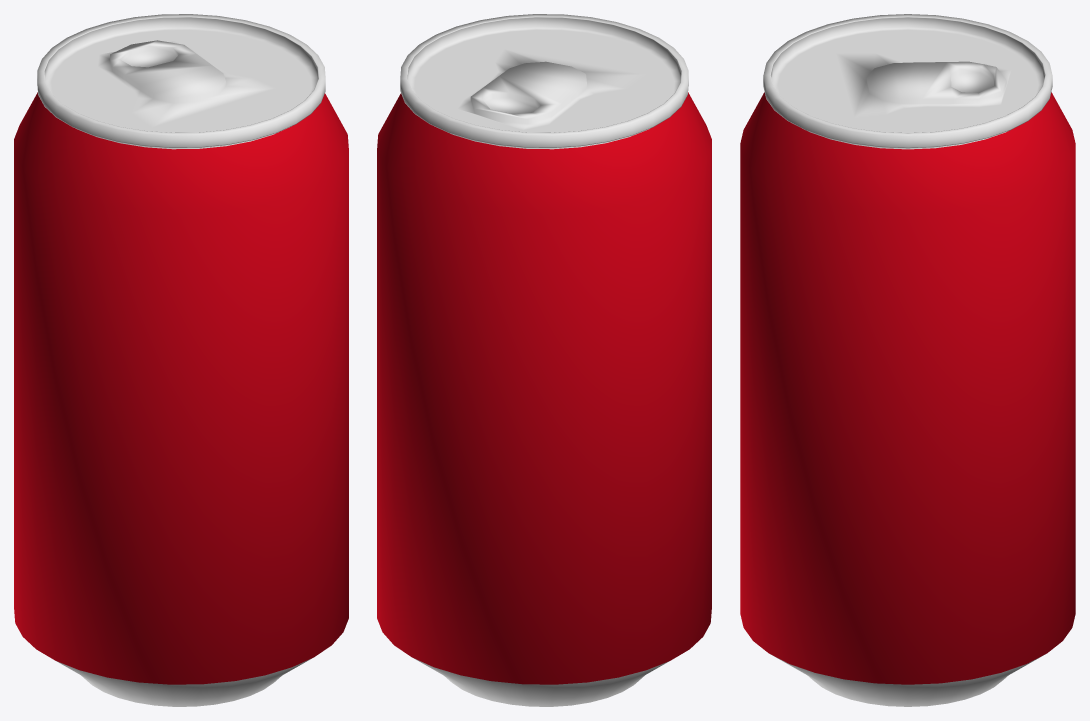
File: soda_can.glb
The picture shows the model from 3 angles, left to right: view 1: azimuth 30°, elevation 25°; view 2: azimuth 150°, elevation 25°; view 3: azimuth 270°, elevation 25°; orthographic projection.
Parts seen in each view (by area): view 1: soda_can; view 2: soda_can; view 3: soda_can.
Boxes of the visible parts, x1,y1,x2,y2 form: soda_can: [14, 14, 348, 706]; soda_can: [377, 14, 711, 706]; soda_can: [740, 14, 1075, 706].
Size of the model in its own units: 2.47 by 4.78 by 2.47.
